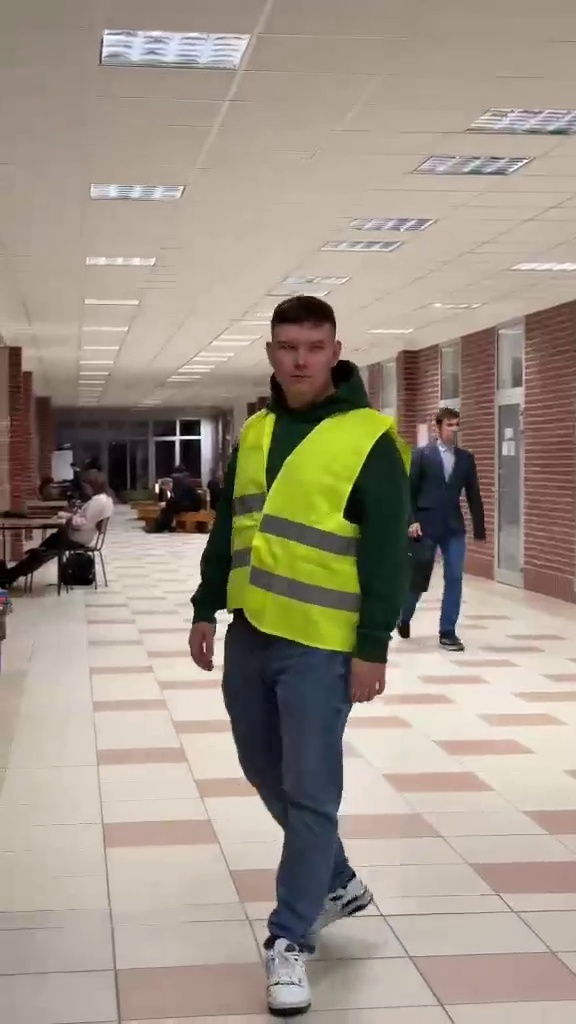no vest: (410, 398, 491, 656), (11, 453, 114, 590)
vest: (202, 288, 403, 1000)
